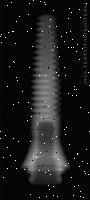Implant Direct: (9, 10, 71, 188)
